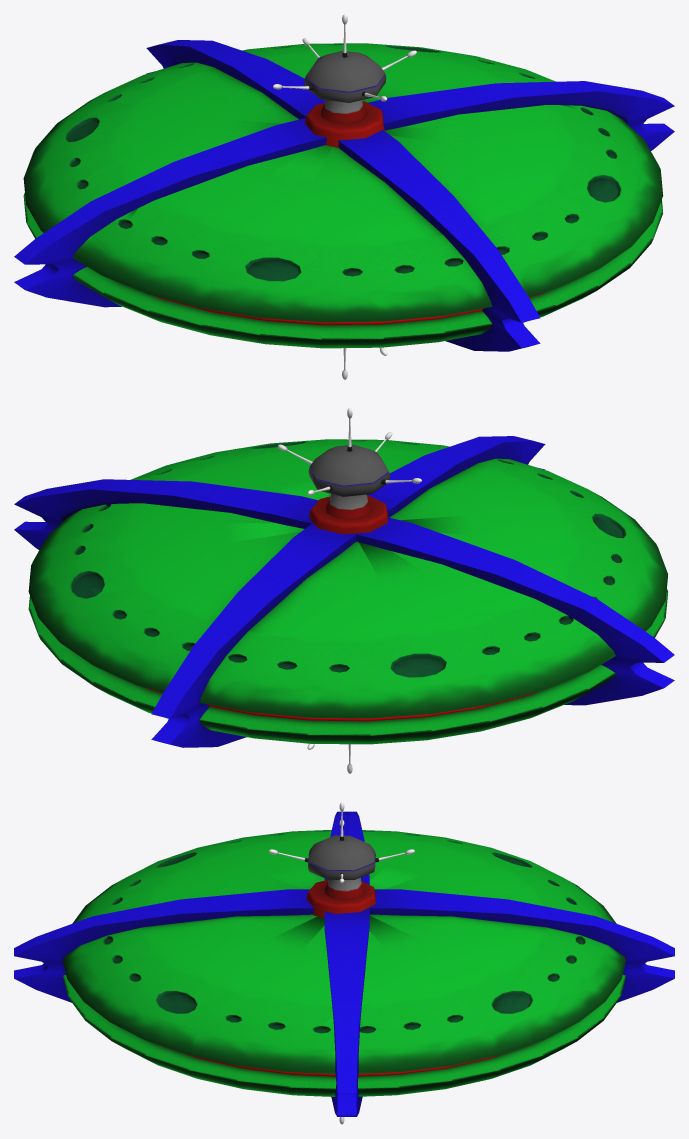
The model's file is Mothership.FBX.
3 renders of one model, top to bottom at view 1: azimuth 30°, elevation 25°; view 2: azimuth 150°, elevation 25°; view 3: azimuth 270°, elevation 25°, orthographic. The views are drawn at different scales.
Parts seen in each view (by area): view 1: MotherShip; view 2: MotherShip; view 3: MotherShip.
Boxes of the visible parts, x1,y1,x2,y2 form: MotherShip: (14,14,674,379); MotherShip: (14,408,674,773); MotherShip: (14,802,674,1124).
Size of the model in its own units: 154 by 82.81 by 154.
